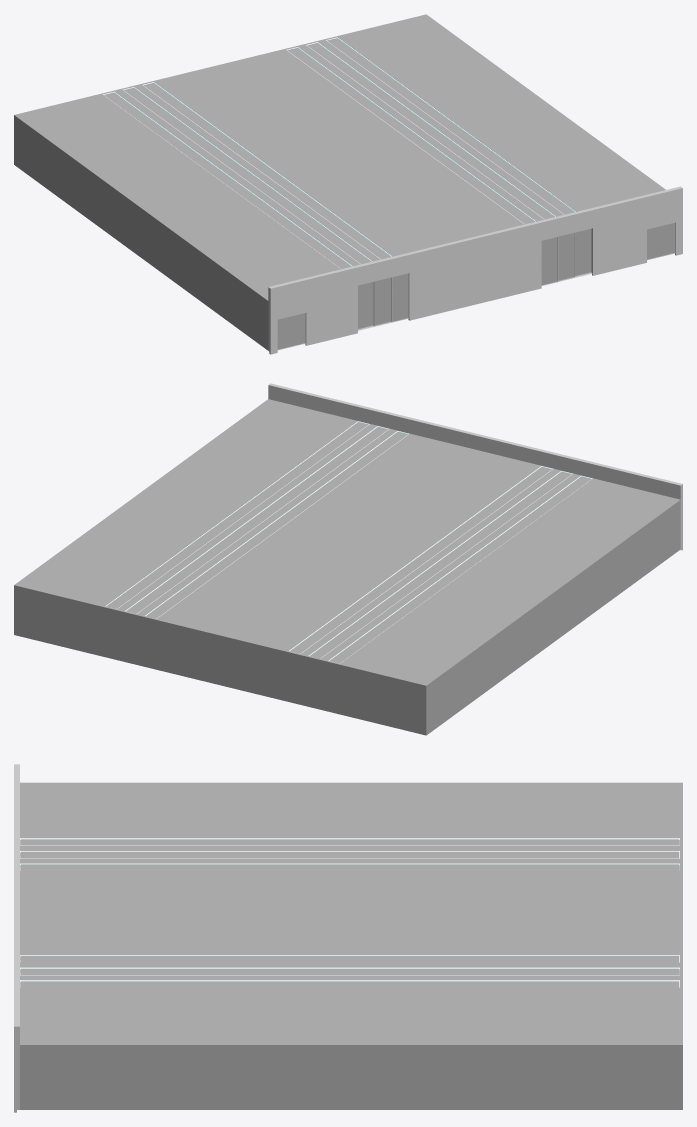
Rendered from StructureWalls.fbx.
The picture shows the model from 3 angles, top to bottom: view 1: azimuth 30°, elevation 25°; view 2: azimuth 150°, elevation 25°; view 3: azimuth 270°, elevation 25°; orthographic projection. The views are drawn at different scales.
Visible parts, largest first — view 1: StructureWalls, Glass, CeilingEmission; view 2: StructureWalls, Glass, CeilingEmission; view 3: StructureWalls, Glass, CeilingEmission.
Part boxes in pixels (box(x1,y1,x2,y2)): StructureWalls: box(14, 14, 682, 354); Glass: box(104, 38, 674, 349); CeilingEmission: box(103, 37, 675, 350); StructureWalls: box(14, 383, 682, 735); Glass: box(106, 422, 591, 663); CeilingEmission: box(105, 421, 592, 663); StructureWalls: box(14, 764, 682, 1112); Glass: box(20, 839, 679, 987); CeilingEmission: box(20, 838, 679, 987).
Size of the model in its own units: 145 by 22.18 by 157.
